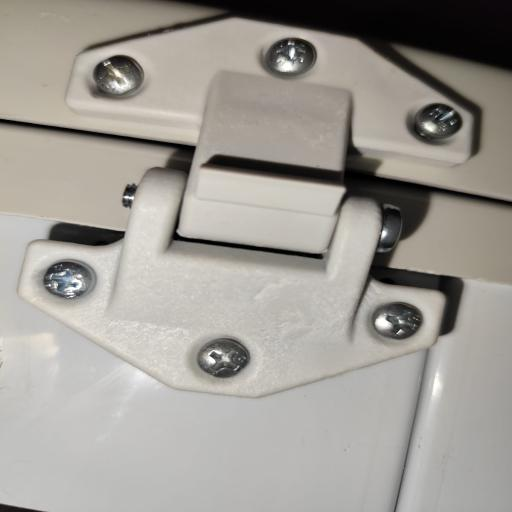Phillips: (369, 296, 430, 350), (398, 102, 474, 144), (43, 258, 101, 302), (261, 37, 317, 80), (93, 54, 143, 101), (191, 339, 248, 379)
